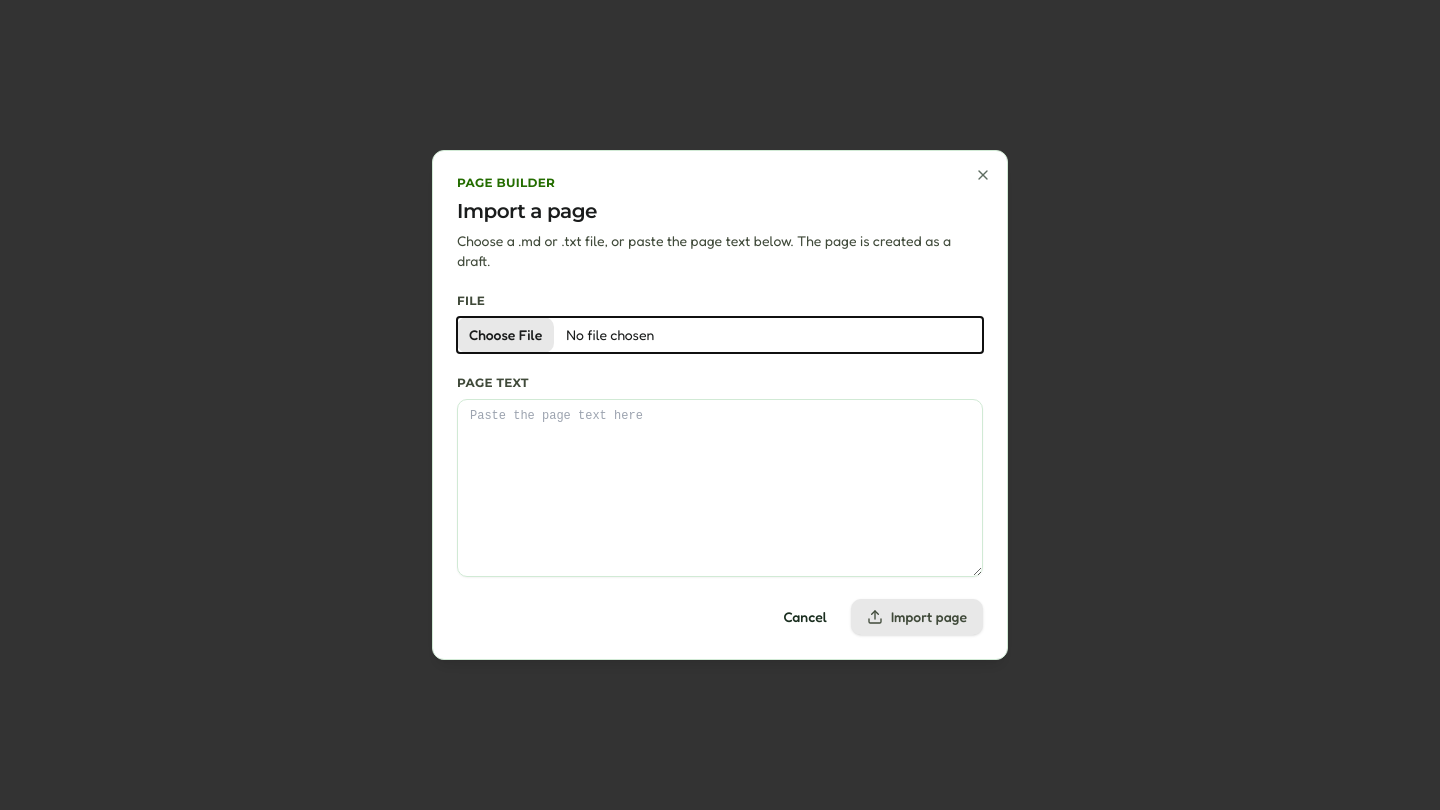
Test: ImportPageDialog › omits the optional notes when there is nothing to report, and pluralises links
The width and height of the screenshot is (1440, 810).
Type "x" into the text box labelled "Page text". click: (720, 488)
box: [457,399,983,577]
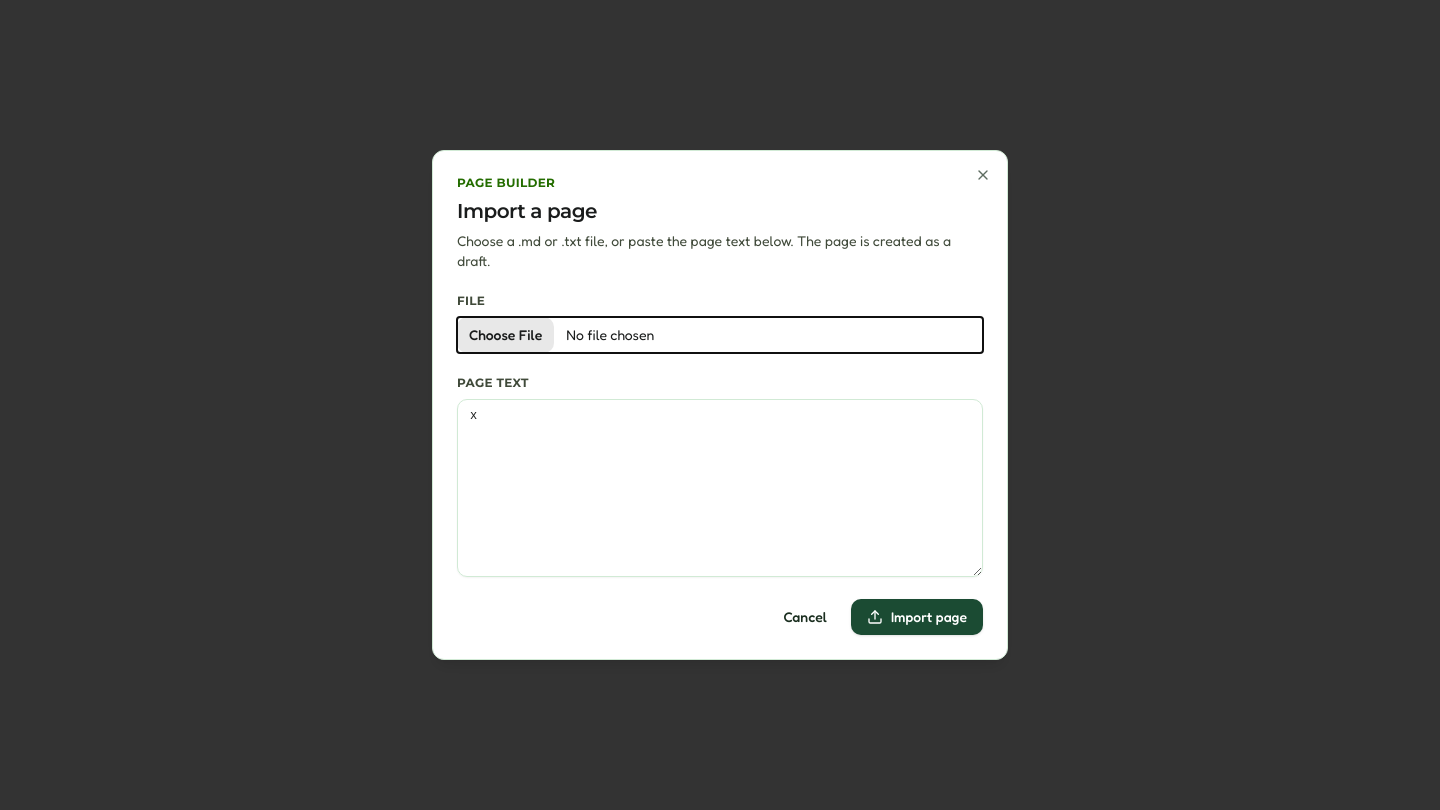
Click the button "Import page". click: (917, 617)
box: [851,599,983,635]
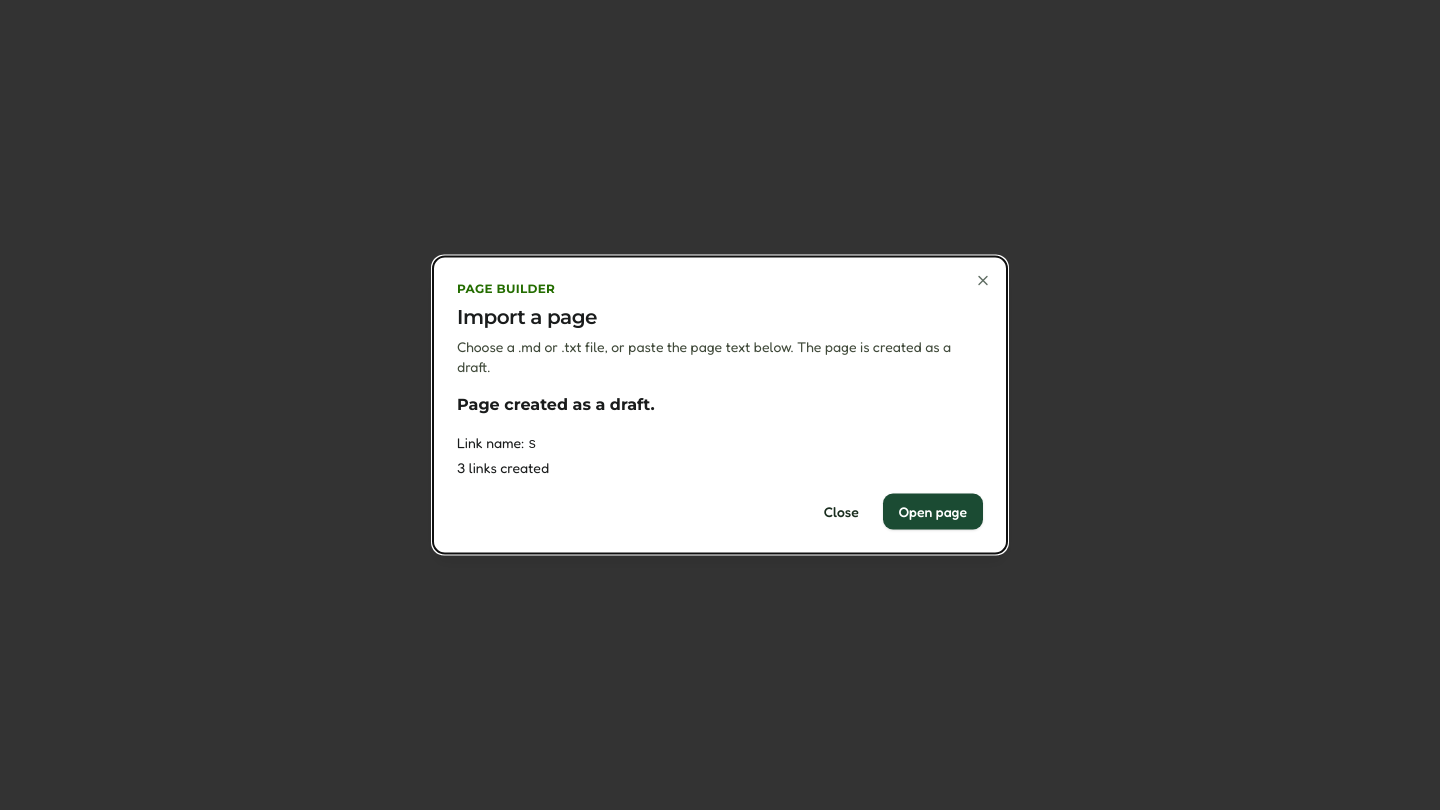
expect the list item "3 links created" is shown: met, box [457,458,549,476]
